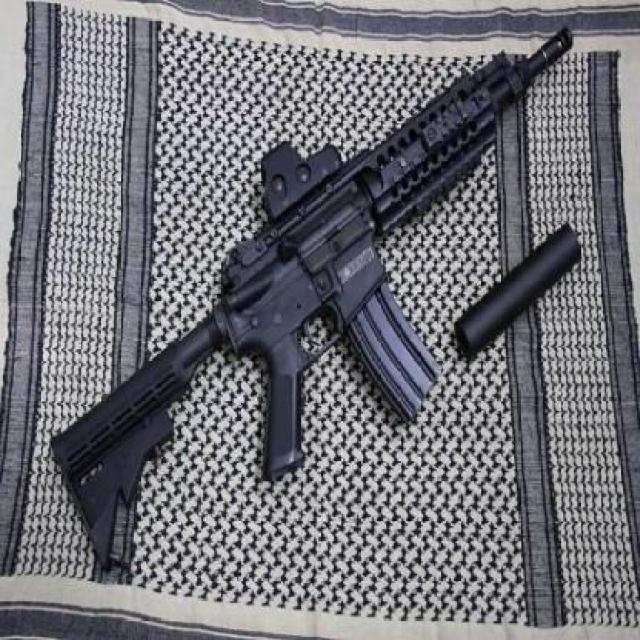heavy-weapon: (51, 26, 578, 574)
